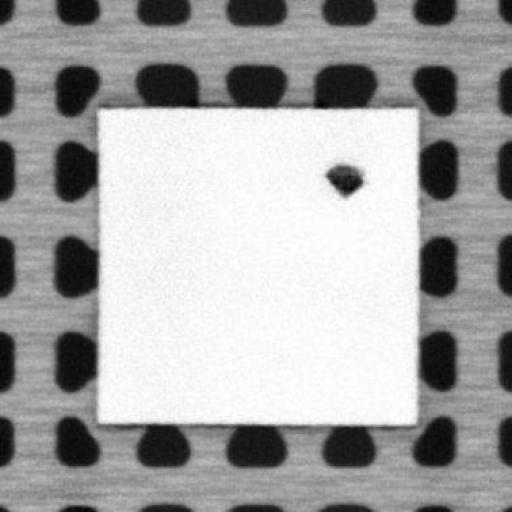DIE_INK: (324, 162, 366, 198)
